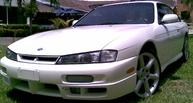front_view: (0, 42, 140, 98)
headlight: (48, 45, 128, 73)
side_glass: (149, 1, 189, 31)
